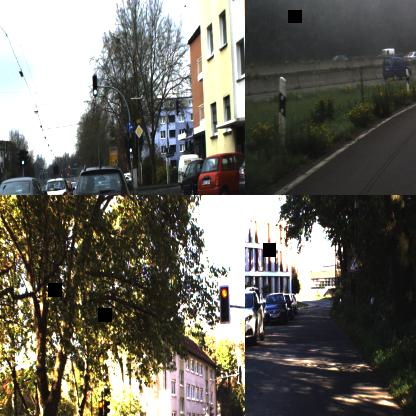CONSTRUCTION: (349, 252, 360, 272)
go right: (126, 120, 134, 132)
priority road: (135, 124, 143, 138)
